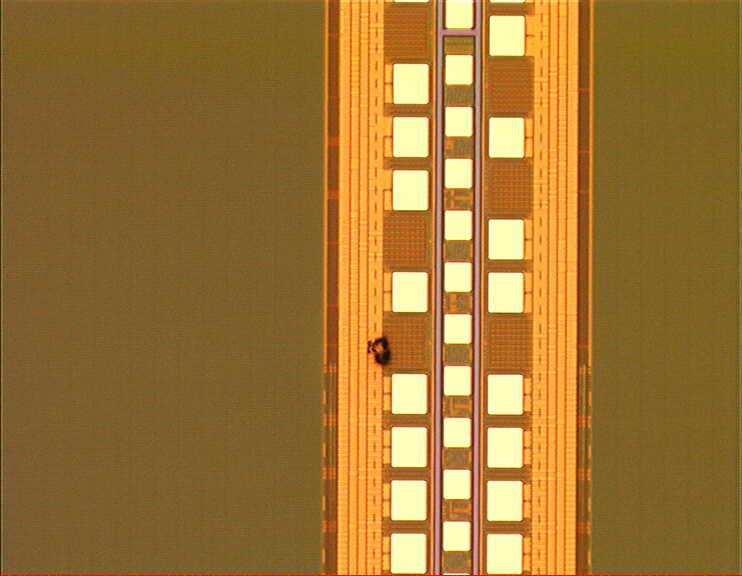PIQ PARTICLE: (363, 334, 399, 370)
